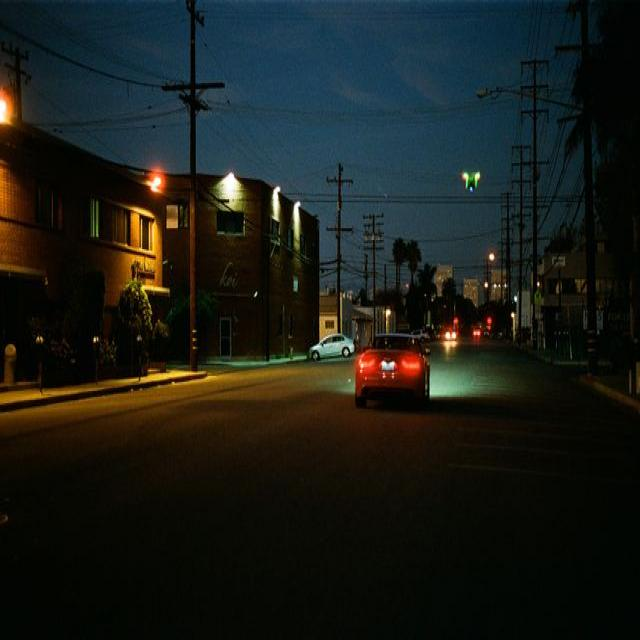car: (346, 320, 444, 411), (304, 317, 356, 379)
column: (578, 5, 612, 364), (180, 47, 201, 396), (527, 67, 550, 369), (506, 112, 531, 368), (356, 193, 381, 359), (326, 154, 348, 330)
